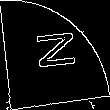N_W: (31, 32, 79, 78)
